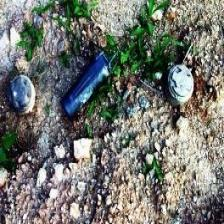M14: (168, 64, 194, 104), (11, 75, 35, 114)
